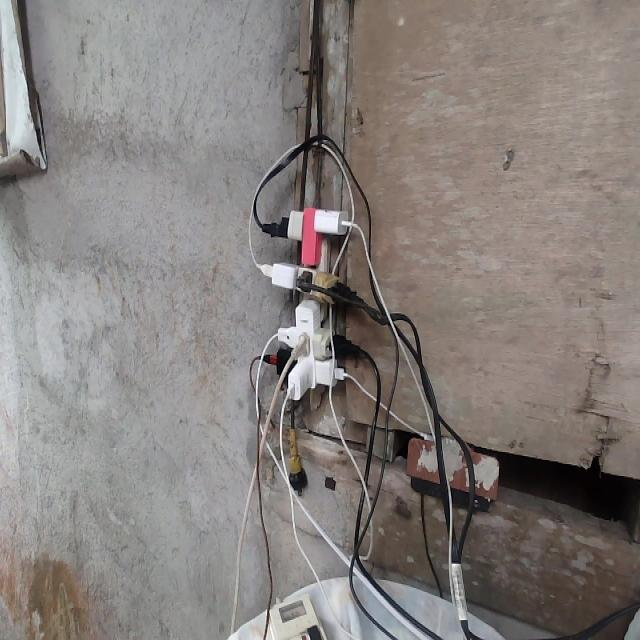-: (249, 200, 367, 408)
